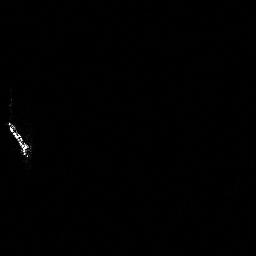ship: (5, 119, 34, 160)
